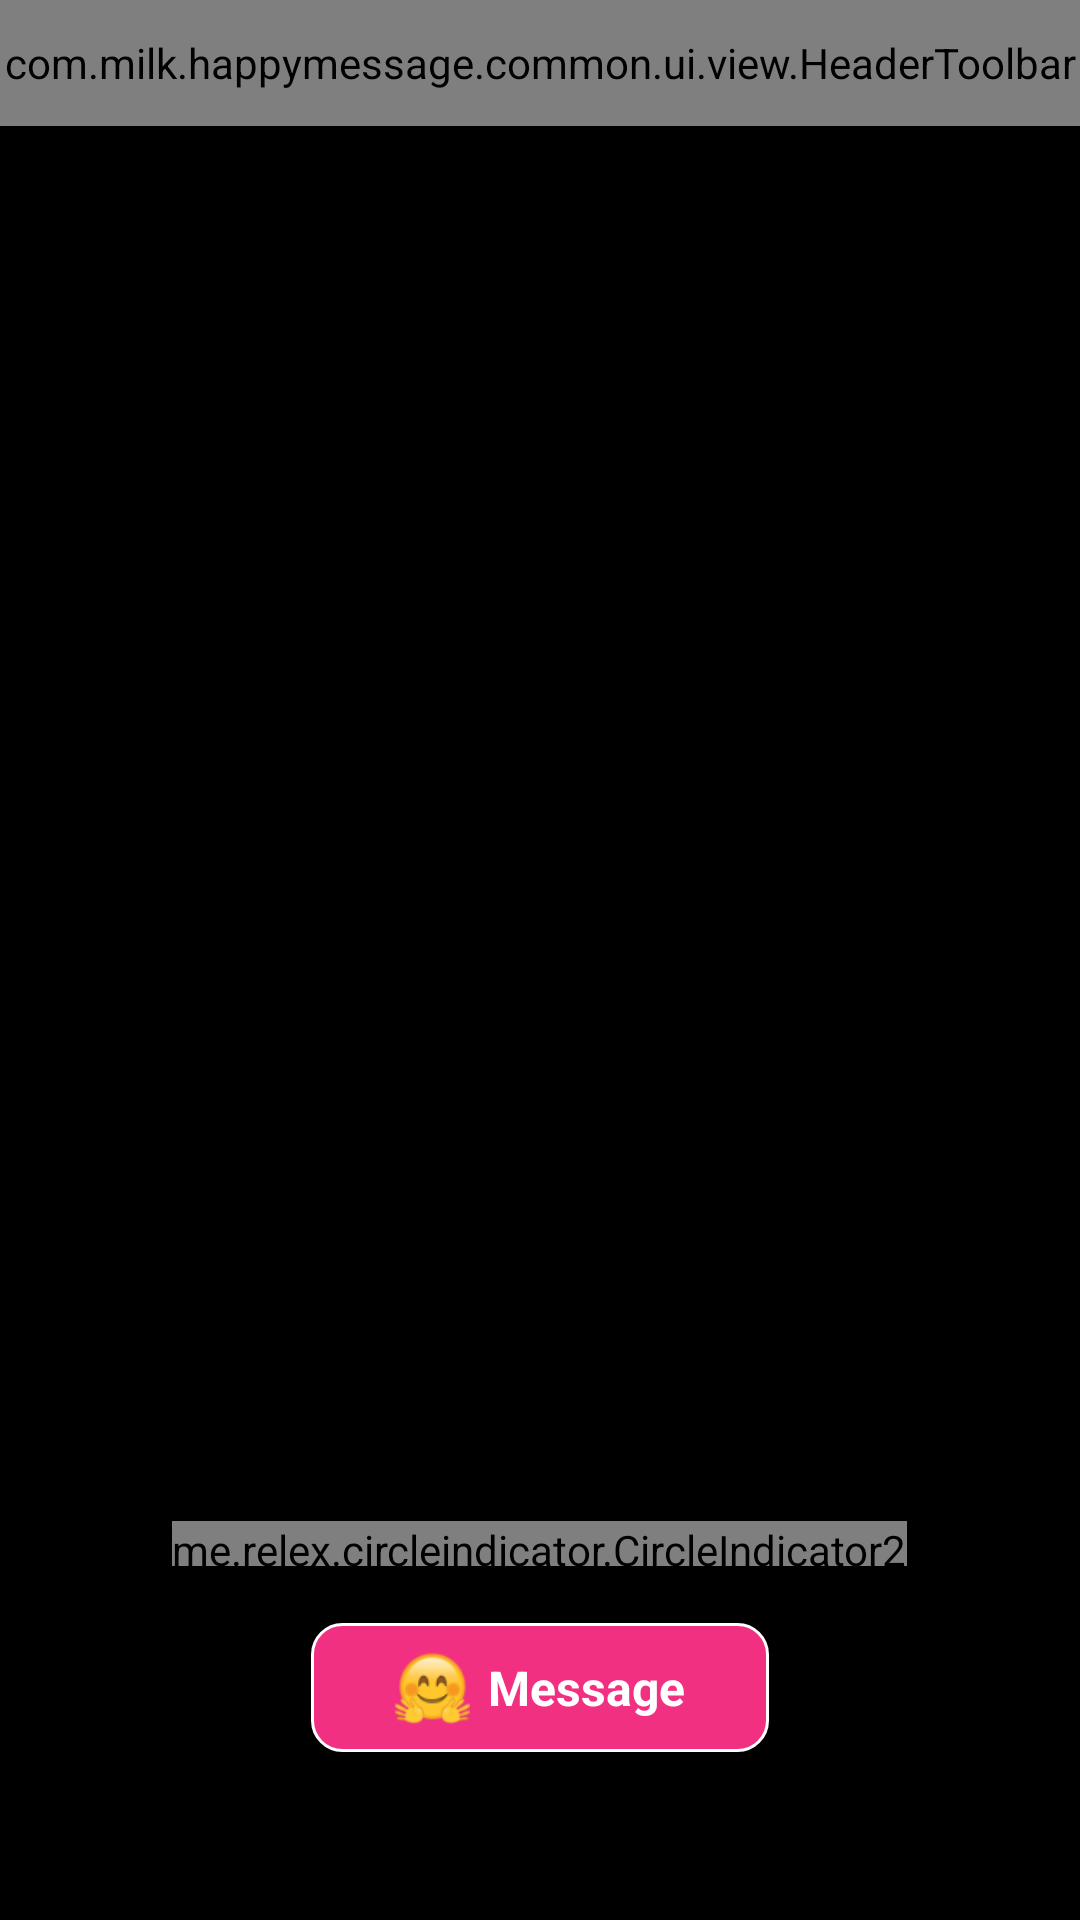

Where to tap for icons on this 1080 x 1920 app screen, as (x,y):
smile: (432,1688)
